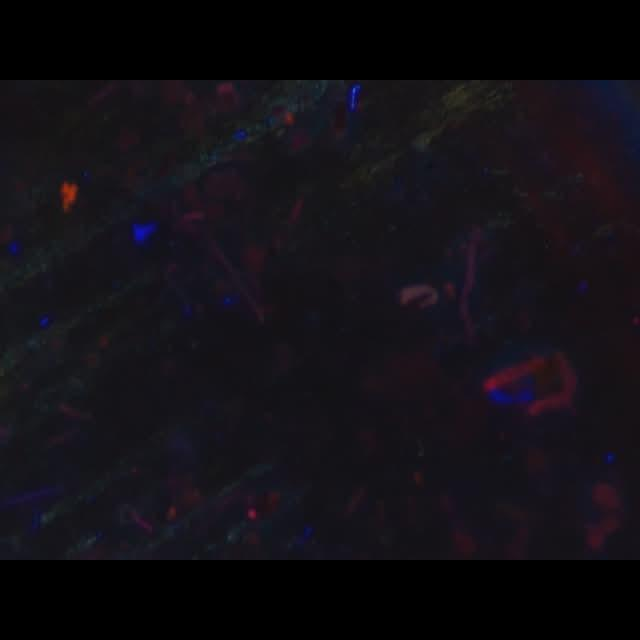Fragment: (61, 181, 78, 212)
